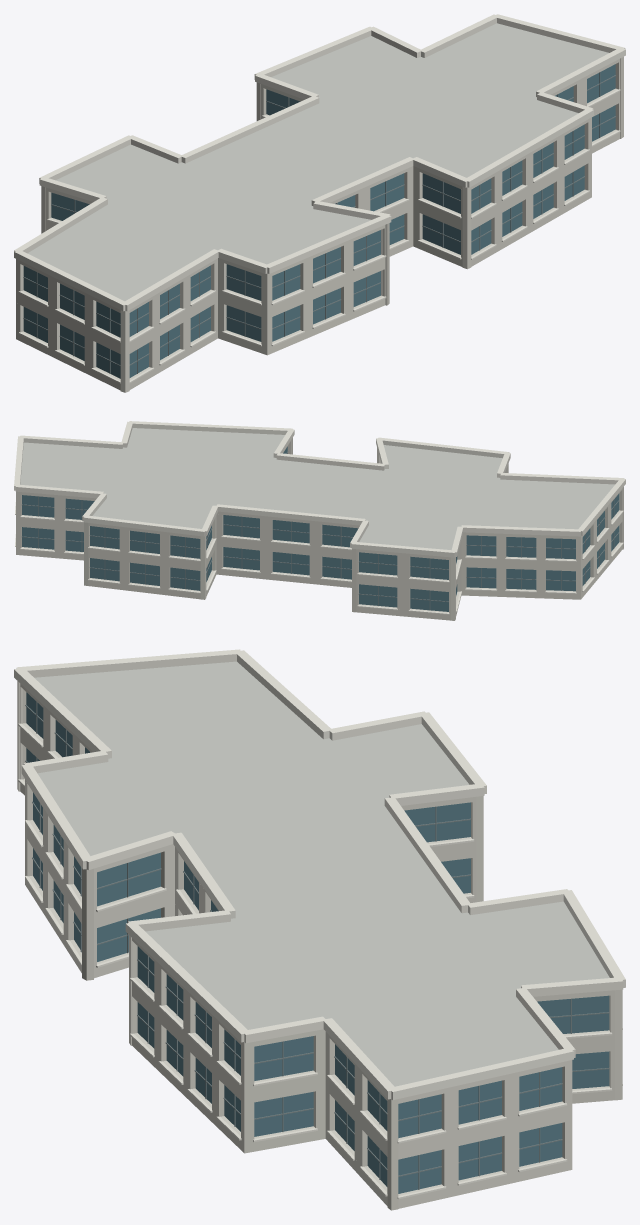
3 renders of one model, top to bottom at view 1: azimuth 30°, elevation 25°; view 2: azimuth 150°, elevation 25°; view 3: azimuth 270°, elevation 25°, orthographic. The views are drawn at different scales.
Visible parts, largest first — view 1: roof, wall, glass, trim, metal; view 2: roof, wall, glass, trim, metal; view 3: roof, wall, trim, glass, metal.
Part boxes in pixels (x1,y1,x2,y2): roof: (27,23,608,301); wall: (16,57,623,392); glass: (23,64,615,378); trim: (14,14,625,383); metal: (23,72,616,373); roof: (20,428,614,550); wall: (16,437,623,620); glass: (22,446,619,611); trim: (14,421,625,614); metal: (22,451,619,610); roof: (34,661,609,1086); wall: (17,681,622,1210); trim: (14,649,625,1199); glass: (26,692,609,1193); metal: (25,701,609,1189).
Size of the model in its own units: 51.06 by 6.44 by 29.83.
